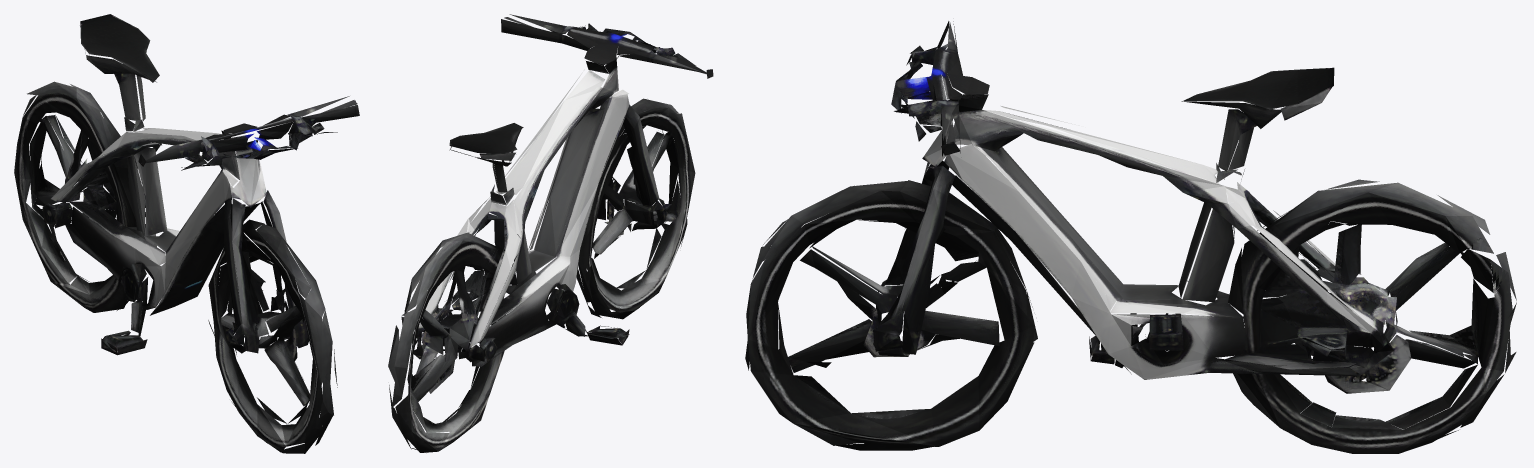
The model's file is bycycle.glb.
3 renders of one model, left to right at view 1: azimuth 30°, elevation 25°; view 2: azimuth 150°, elevation 25°; view 3: azimuth 270°, elevation 25°, orthographic. The views are drawn at different scales.
Parts seen in each view (by area): view 1: world.1253; view 2: world.1253; view 3: world.1253.
Part boxes in pixels (bbox=[...]): world.1253: bbox=[14, 14, 359, 453]; world.1253: bbox=[388, 14, 713, 452]; world.1253: bbox=[745, 21, 1516, 453].
Bounding box in the file's own units: 0.4118 × 0.5458 × 1.
1 material, 1 textured.
